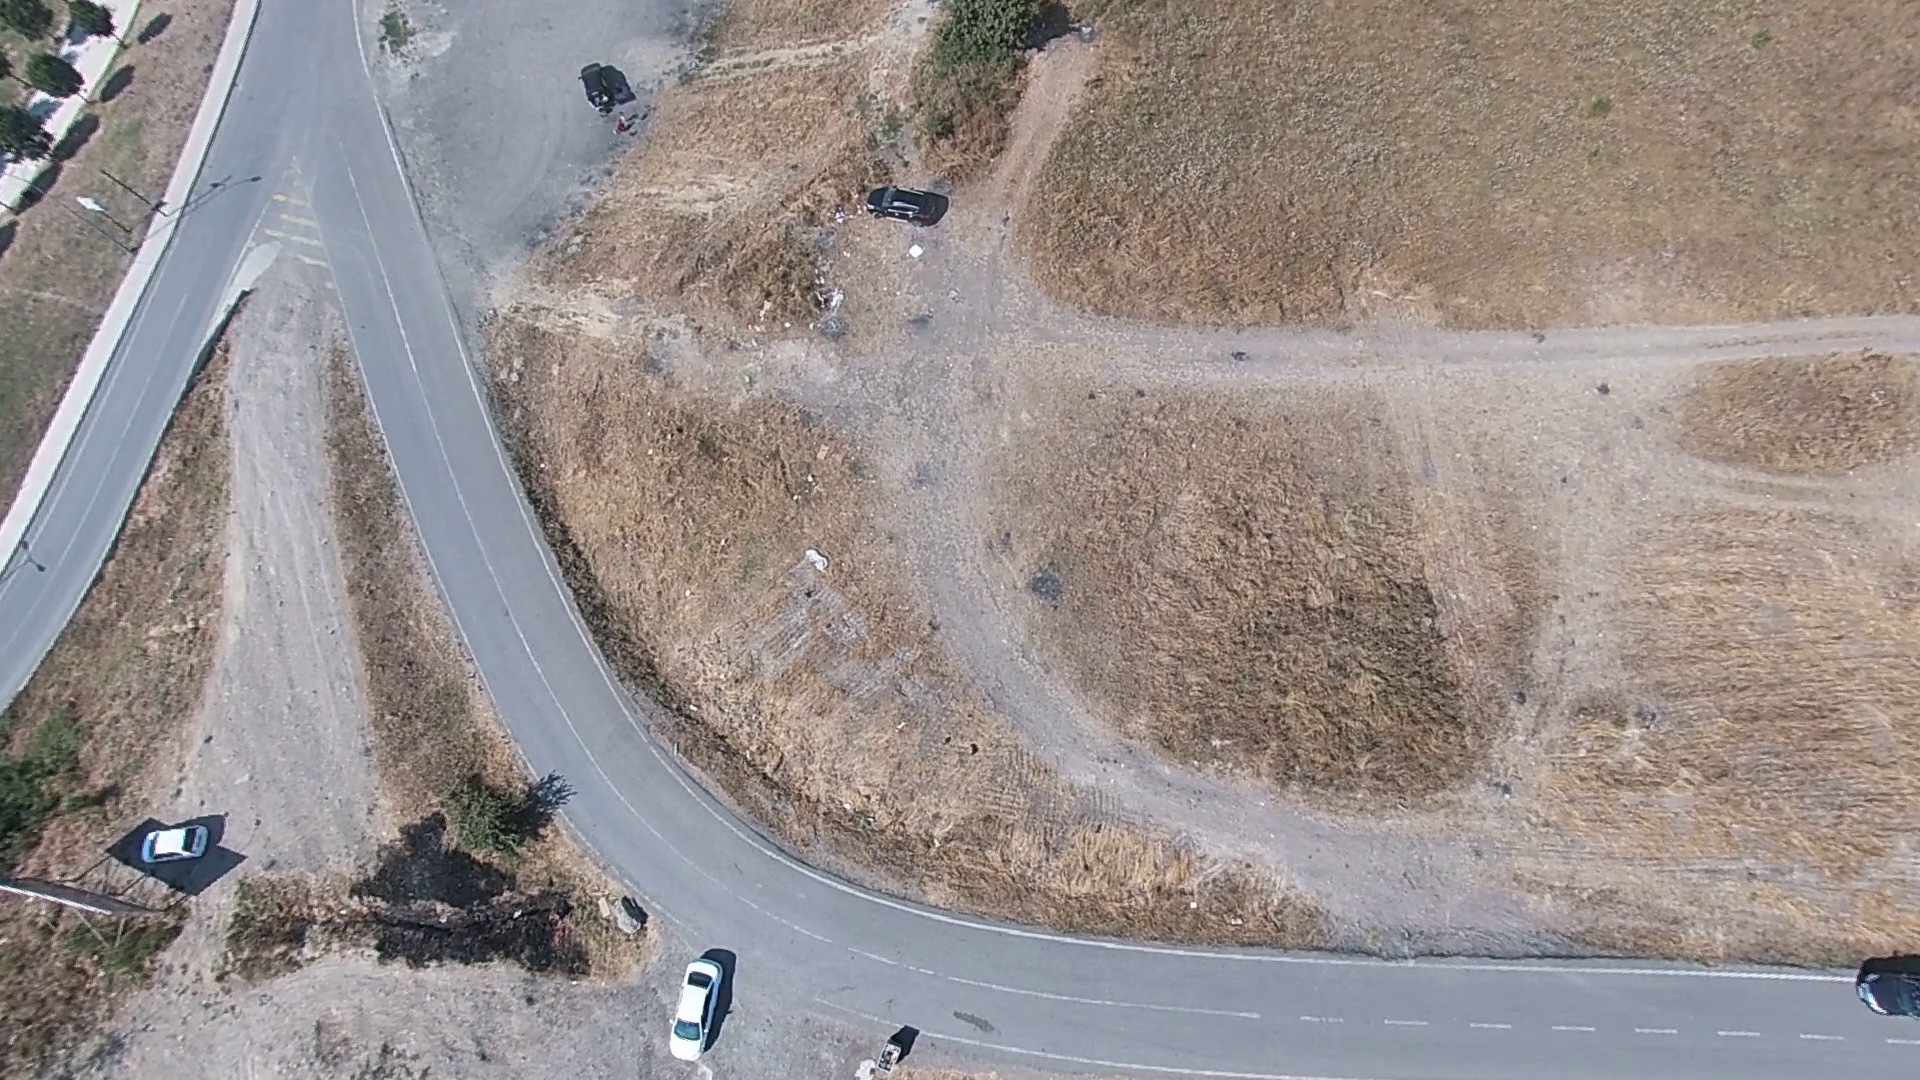araba: (668, 946, 732, 1055), (869, 178, 948, 226), (139, 824, 208, 862), (580, 55, 620, 120)
insan: (1856, 964, 1920, 1015)
